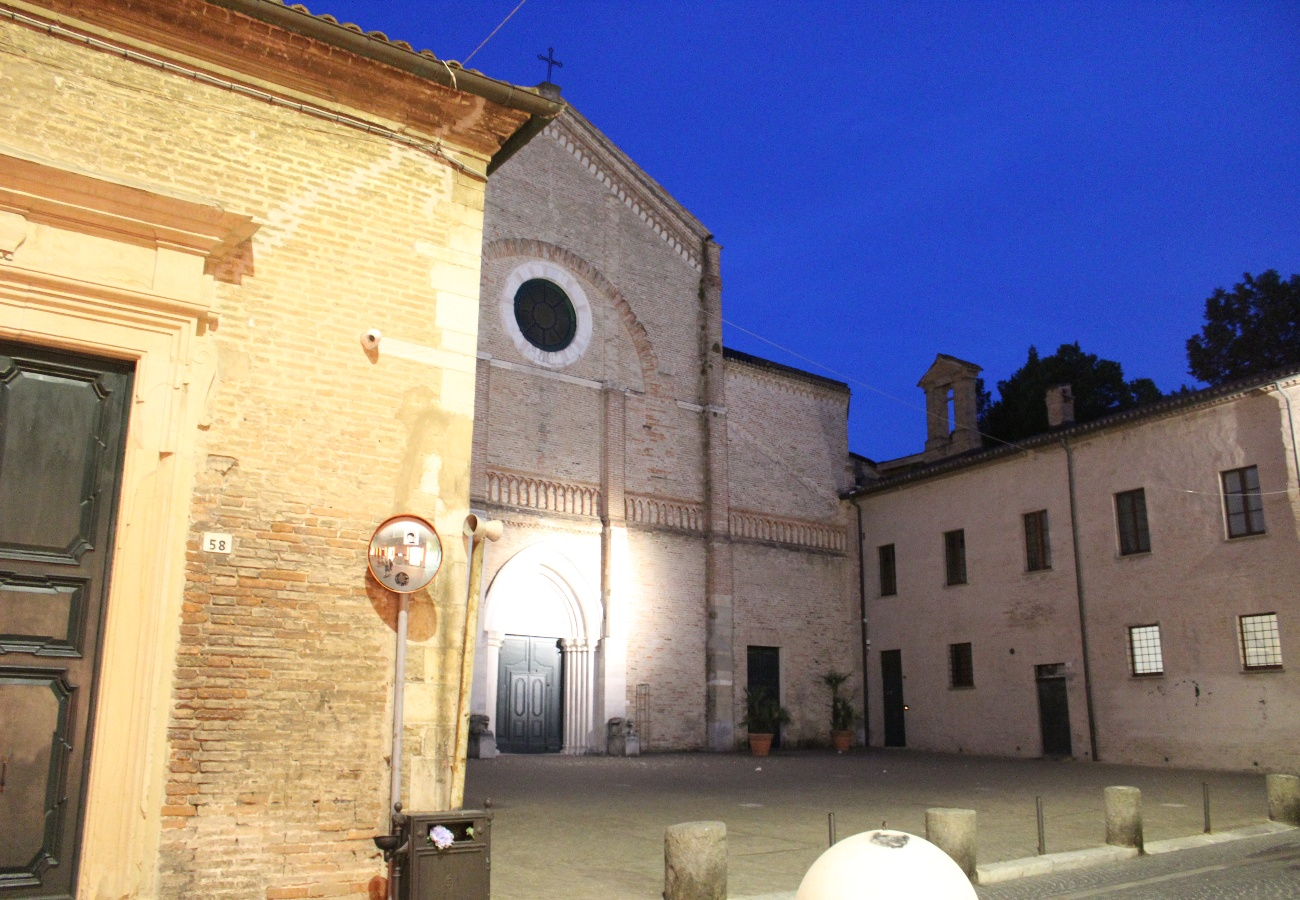Cattedrale Santa Maria Assunta: (477, 78, 879, 758)
